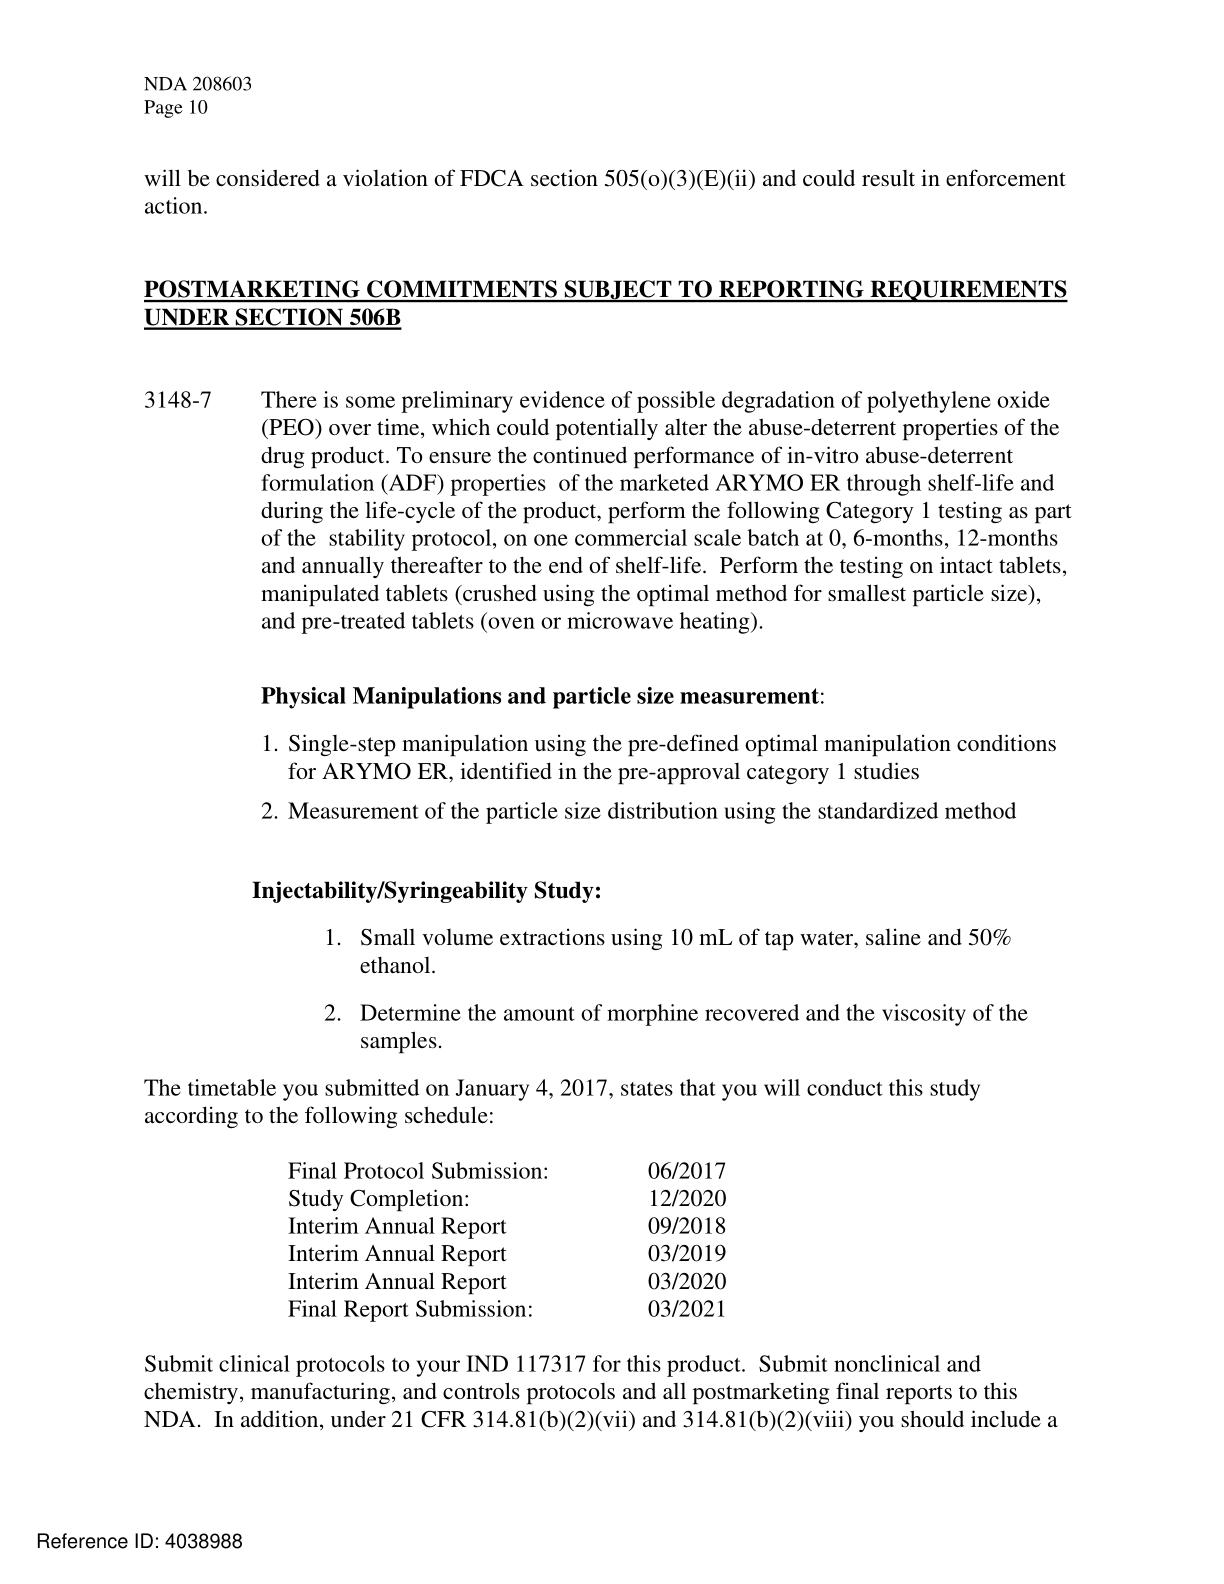nolines: (283, 1157, 729, 1320)
